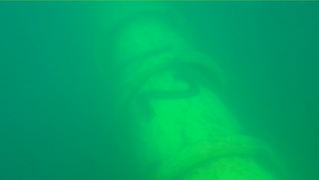2: (136, 73, 201, 122)
pipe: (91, 1, 291, 179)
